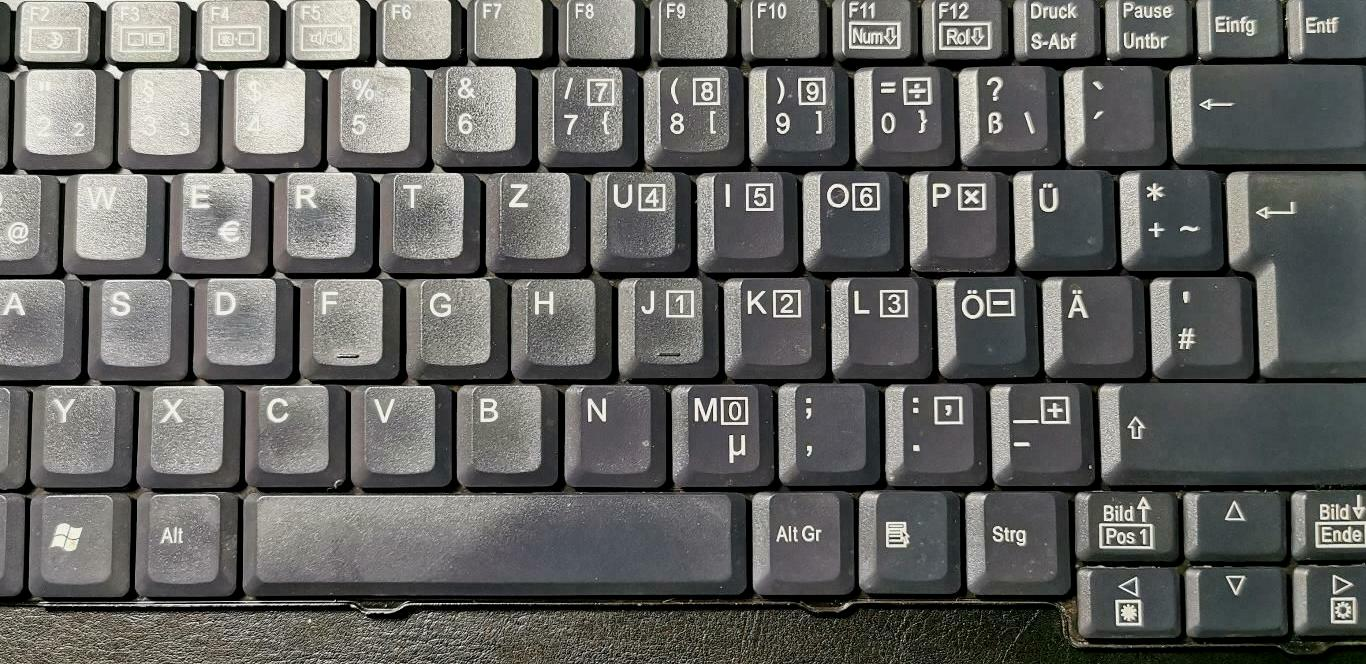0: (854, 59, 947, 160)
1: (1, 66, 41, 158)
2: (16, 63, 98, 156)
3: (121, 63, 203, 155)
4: (227, 62, 306, 154)
5: (328, 62, 412, 156)
6: (430, 60, 520, 157)
7: (538, 61, 629, 159)
8: (648, 61, 732, 158)
9: (750, 59, 841, 160)
a: (1, 271, 67, 373)
accent: (1058, 57, 1156, 159)
ae: (1038, 268, 1136, 368)
alt-left: (134, 487, 222, 589)
altgr-right: (749, 485, 845, 589)
b: (451, 377, 546, 480)
c: (242, 378, 330, 476)
caret: (1, 67, 35, 160)
comma: (777, 376, 868, 474)
d: (190, 271, 278, 369)
del: (1166, 55, 1366, 157)
e: (170, 167, 255, 263)
enter: (1222, 164, 1366, 374)
f: (300, 272, 385, 368)
g: (403, 271, 492, 368)
h: (507, 273, 598, 372)
hash: (1147, 268, 1246, 373)
i: (698, 165, 790, 261)
j: (616, 270, 708, 375)
k: (722, 270, 815, 370)
keyboard: (1, 1, 1366, 647)
l: (832, 270, 923, 368)
less: (1, 378, 44, 478)
m: (667, 377, 765, 484)
minus: (990, 375, 1088, 478)
n: (558, 378, 654, 480)
o: (798, 163, 898, 266)
oe: (937, 270, 1035, 370)
p: (906, 164, 1004, 265)
plus: (1114, 162, 1215, 266)
point: (886, 377, 981, 474)
q: (1, 168, 44, 265)
r: (272, 166, 359, 263)
s: (88, 272, 174, 370)
shift-left: (1, 380, 48, 479)
shift-lock: (1, 274, 67, 373)
shift-right: (1095, 373, 1366, 481)
space: (243, 486, 738, 591)
ss: (955, 57, 1050, 159)
strg-left: (1, 487, 45, 592)
strg-right: (960, 484, 1066, 593)
t: (380, 167, 465, 263)
tab: (1, 169, 52, 262)
u: (587, 164, 682, 270)
ue: (1007, 161, 1106, 268)
v: (348, 378, 437, 480)
w: (63, 167, 150, 263)
x: (138, 378, 225, 477)
y: (30, 378, 117, 478)
z: (483, 166, 572, 264)
